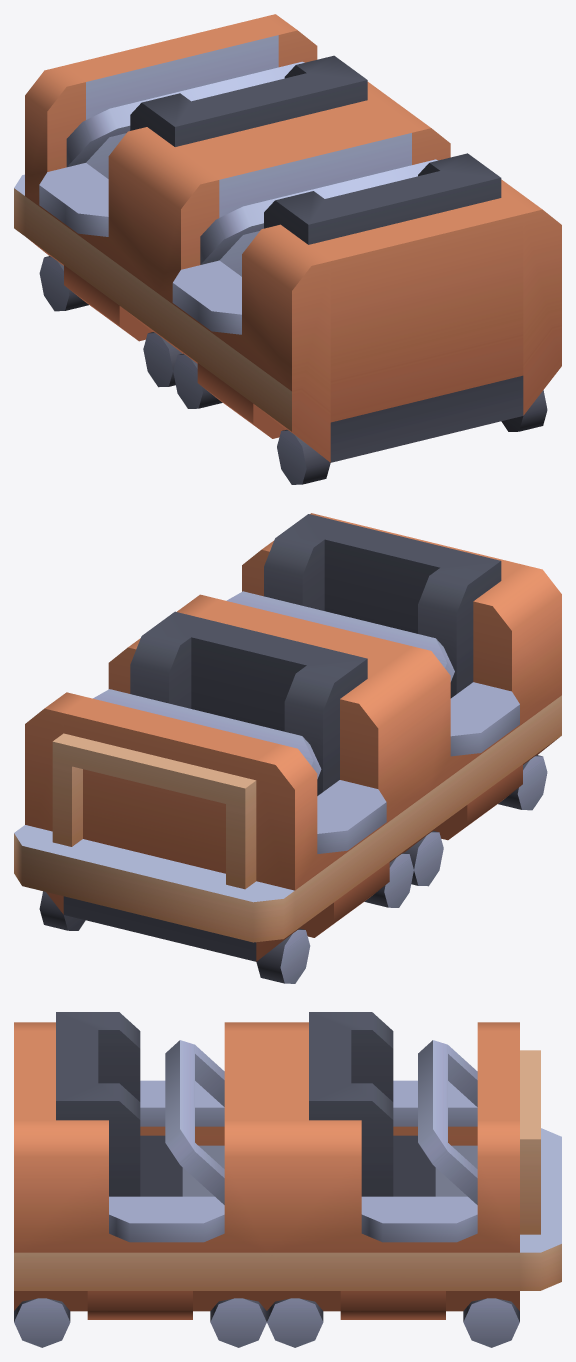
The model's file is kenney-coaster-coaster-train-wooden.glb.
3 views of the same model, one above another, from view 1: azimuth 30°, elevation 25°; view 2: azimuth 150°, elevation 25°; view 3: azimuth 270°, elevation 25° (orthographic). The views are drawn at different scales.
Visible parts, largest first — view 1: coaster-train-wooden; view 2: coaster-train-wooden; view 3: coaster-train-wooden.
Boxes of the visible parts, left/top/right/bottom form: coaster-train-wooden: left=14, top=14, right=561, bottom=484; coaster-train-wooden: left=14, top=513, right=561, bottom=983; coaster-train-wooden: left=14, top=1012, right=561, bottom=1347.
Size of the model in its own units: 0.8001 by 0.6171 by 1.3.
Materials: 1 (1 with a texture image).
